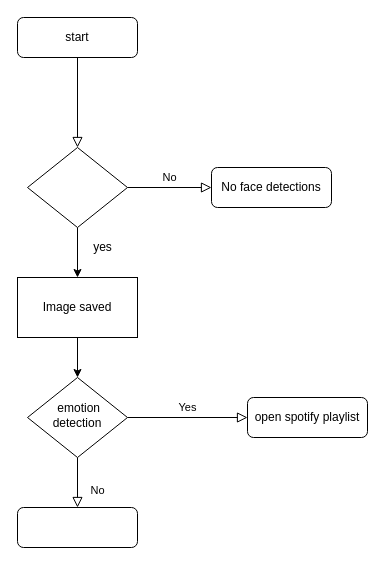
The diagram is 385 pixels wide and 565 high, and some of its shapes have lost their labels. The box of each missing label's shape, as (x1, y1, x2, y2) in pixels:
End of program: (16, 506, 138, 548)
Face detection: (26, 146, 128, 228)
